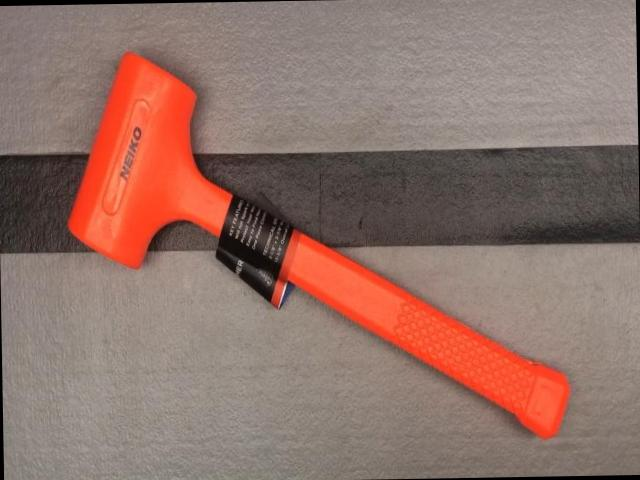hammer: (63, 41, 571, 442)
